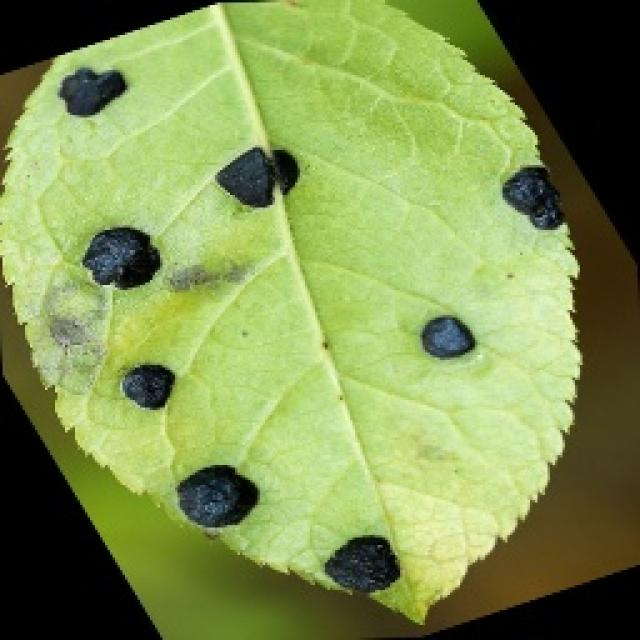Tar_Spot: (0, 0, 588, 628)
